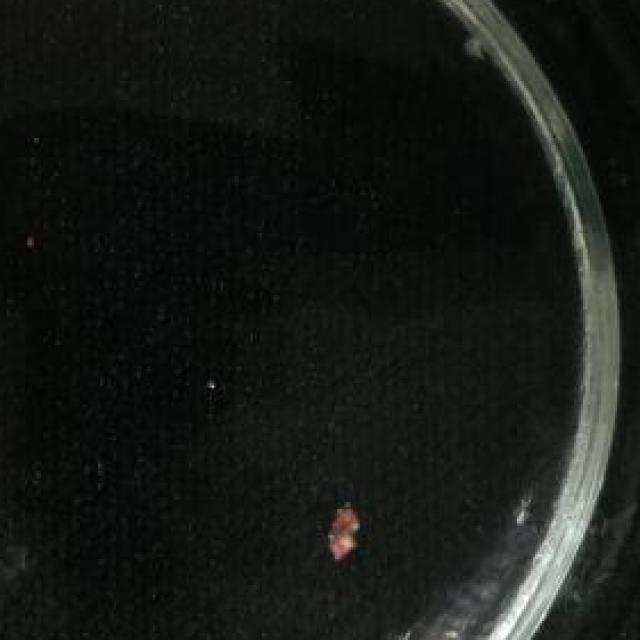Microplastic: (321, 495, 365, 564)
